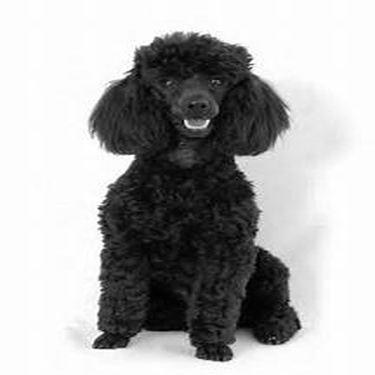dog: (70, 23, 308, 360)
